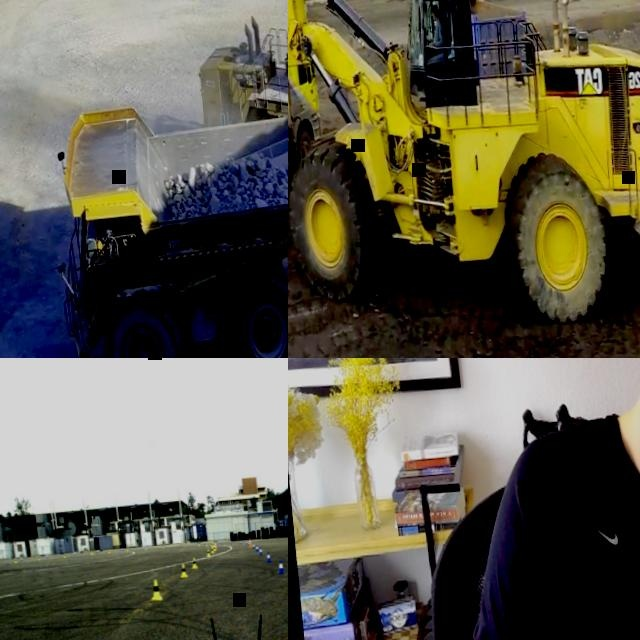NO-Hardhat: (431, 2, 439, 13)
NO-Mask: (431, 14, 436, 21)
NO-Safety Vest: (519, 404, 640, 640), (431, 19, 443, 42)
Person: (426, 358, 640, 640), (422, 2, 445, 54)
Safety Cone: (148, 579, 162, 601), (276, 558, 285, 574), (179, 563, 187, 577), (190, 556, 196, 568), (265, 551, 271, 561), (257, 546, 262, 554), (247, 538, 251, 547), (206, 548, 210, 556), (254, 544, 258, 551), (209, 546, 213, 553), (214, 540, 217, 549), (251, 543, 255, 549), (212, 545, 215, 551), (62, 553, 65, 558), (36, 555, 39, 560), (14, 558, 17, 562), (246, 540, 248, 546), (238, 540, 241, 544), (107, 548, 110, 552), (144, 545, 146, 550), (126, 546, 128, 551), (45, 553, 47, 558), (244, 540, 246, 544), (229, 540, 231, 544), (219, 540, 221, 544), (210, 542, 212, 546), (204, 542, 206, 546), (197, 542, 199, 546), (183, 542, 185, 546), (162, 544, 164, 548), (96, 549, 98, 553), (90, 550, 92, 554), (73, 551, 75, 555), (19, 556, 21, 560), (212, 542, 213, 547)
machinery: (288, 0, 640, 358), (40, 83, 288, 358), (185, 0, 288, 258), (413, 0, 531, 90)
